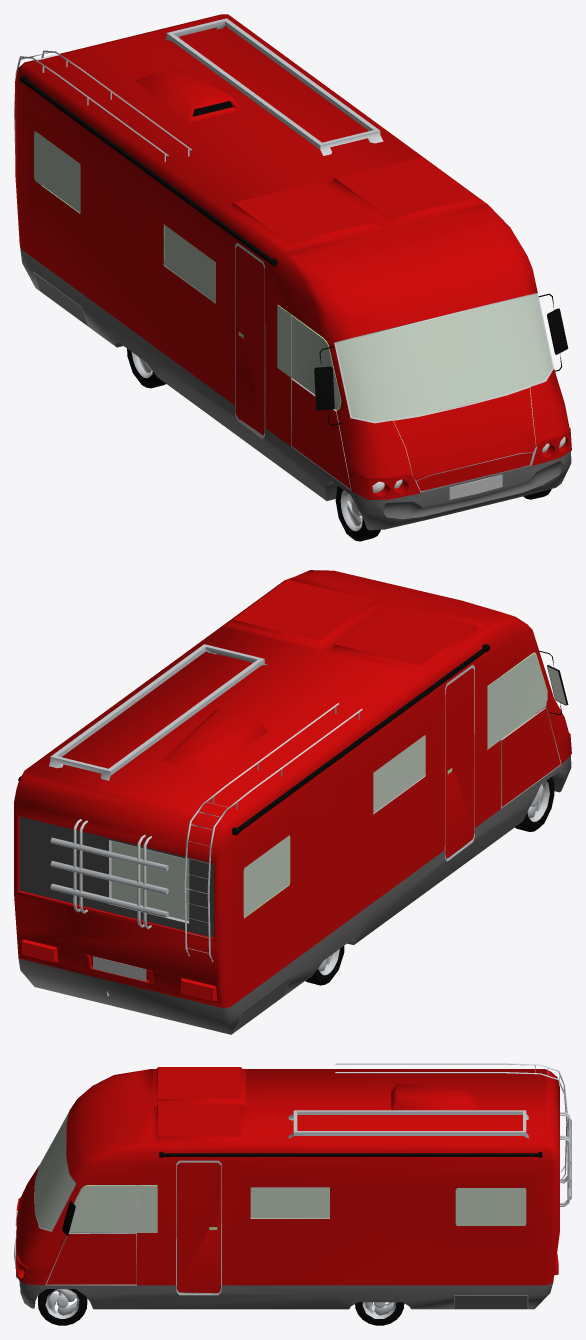
The model's file is hymer_camper.FBX.
The picture shows the model from 3 angles, top to bottom: view 1: azimuth 30°, elevation 25°; view 2: azimuth 150°, elevation 25°; view 3: azimuth 270°, elevation 25°; orthographic projection. The views are drawn at different scales.
Visible parts, largest first — view 1: hymer; view 2: hymer; view 3: hymer.
Part boxes in pixels (x1,y1,x2,y2): hymer: (14,14,571,541); hymer: (14,570,571,1034); hymer: (14,1063,571,1325).
Size of the model in its own units: 0.8732 by 0.8573 by 2.21.
